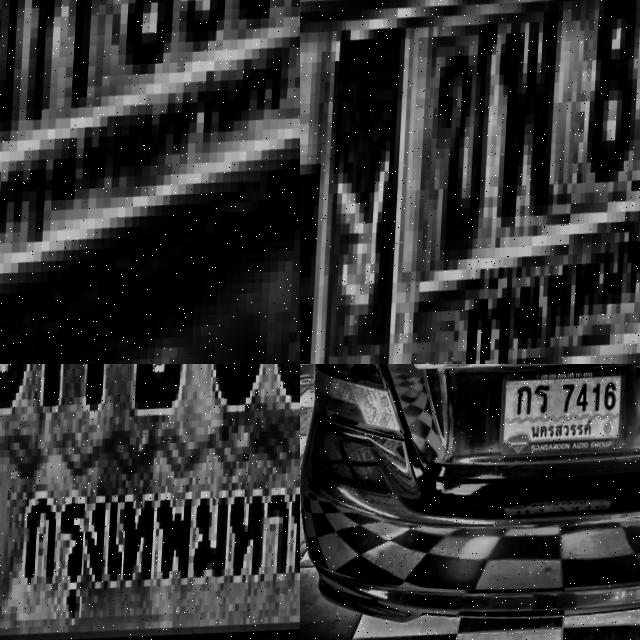license-plate: (300, 0, 640, 364), (0, 0, 300, 364), (0, 364, 300, 640), (498, 370, 626, 469)
